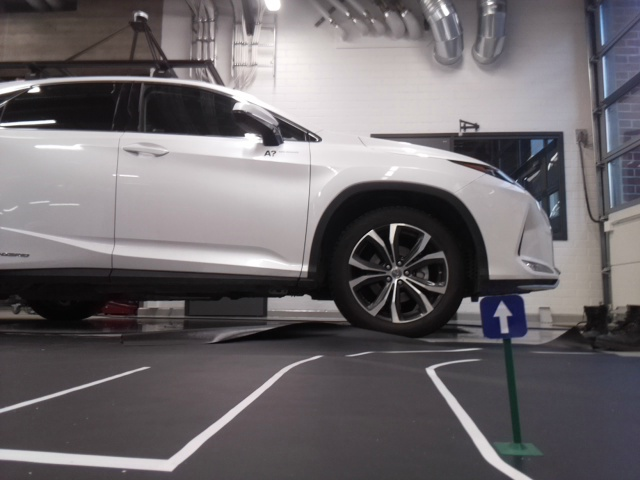OneWay: (482, 294, 527, 337)
